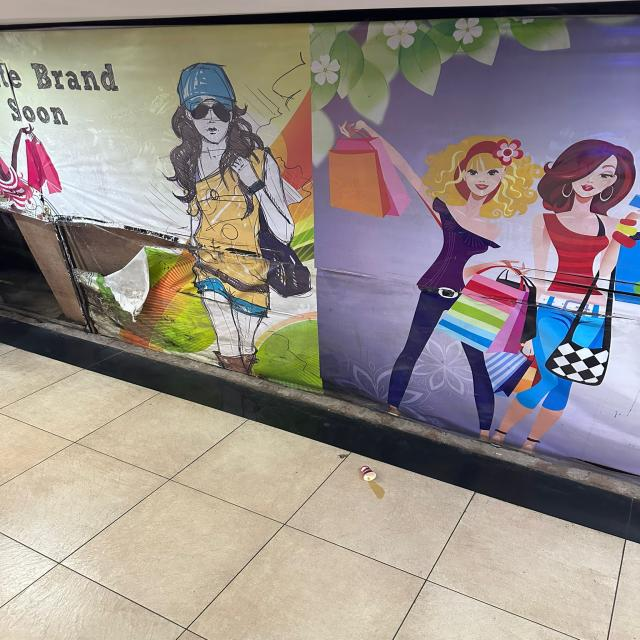cup: (360, 466, 376, 480)
spill: (368, 481, 386, 499)
